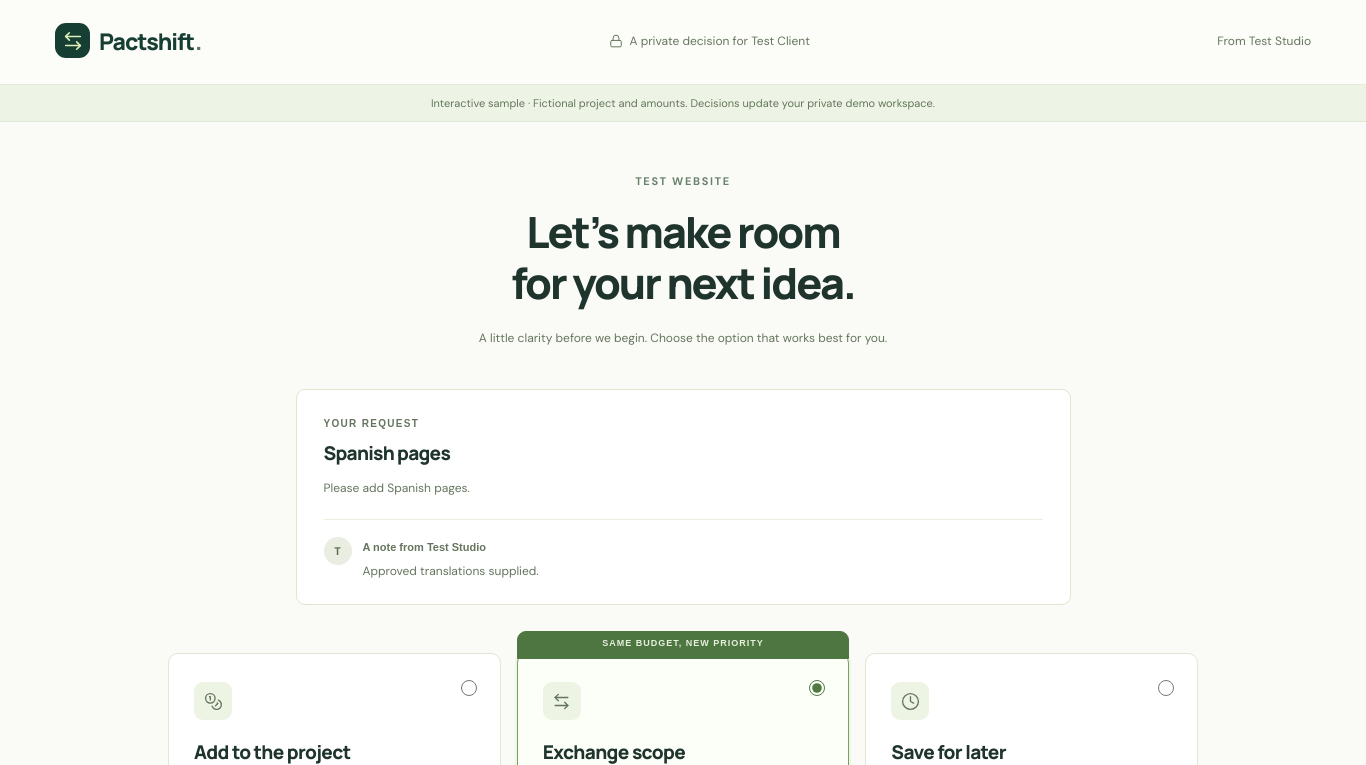
Test: real frontend workflow contracts › shows before and after totals, requires review, and renders a stable client receipt
Expected: the heading "Let’s make room" is shown, [511,202,855,312]
Click the radio button labelled "Add to the project": x=469, y=688 [461,680,477,696]
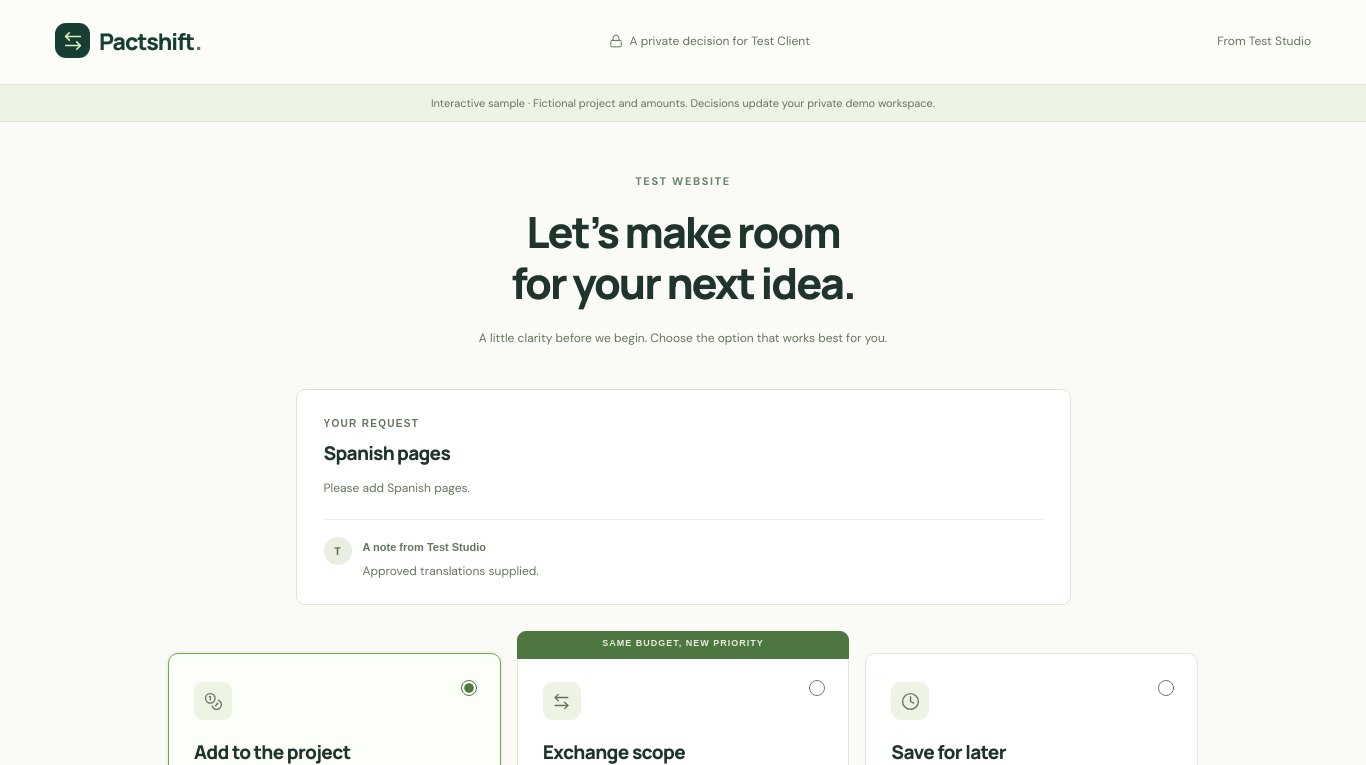
Click the radio button labelled "Exchange scope": x=817, y=688 [809,680,825,696]
(page scrolled)
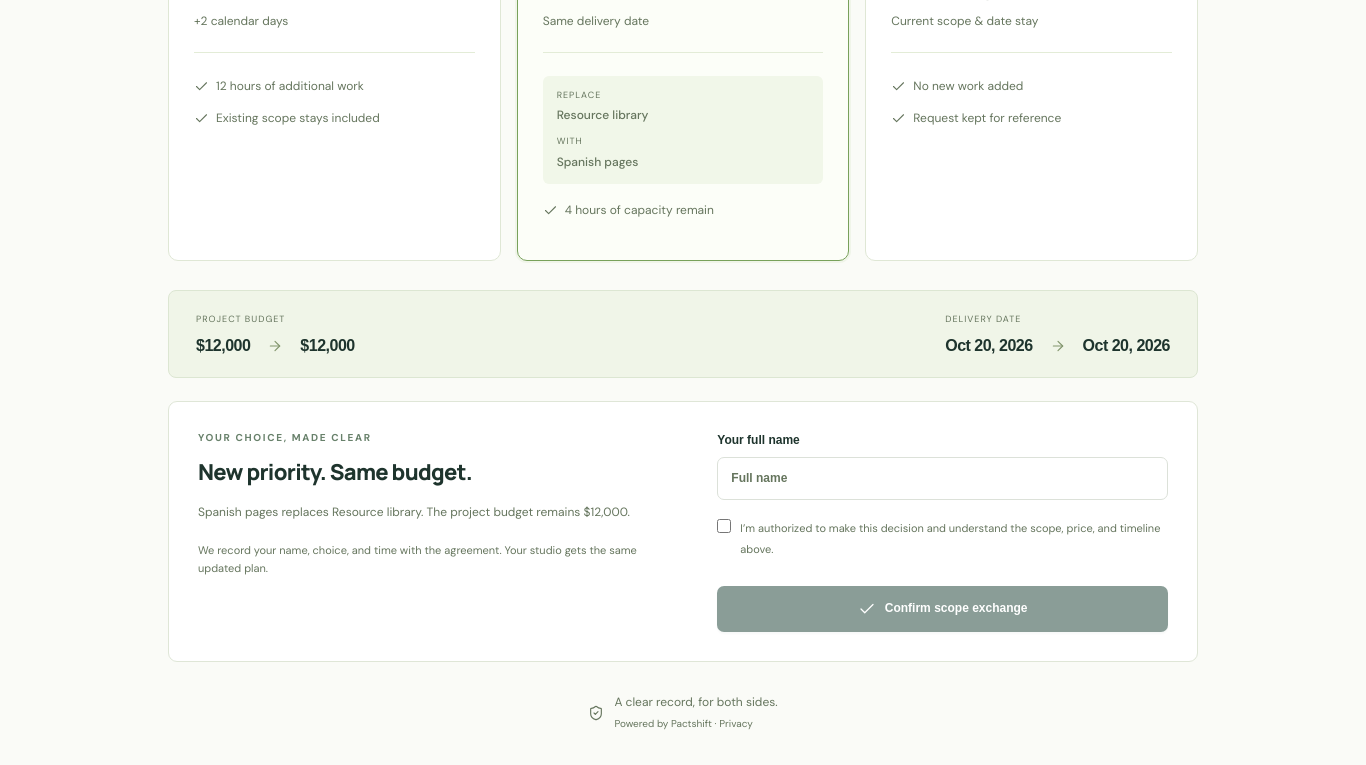
In the field labelled "Your full name": x=943, y=479 [717,457,1168,500], type "Test Client"
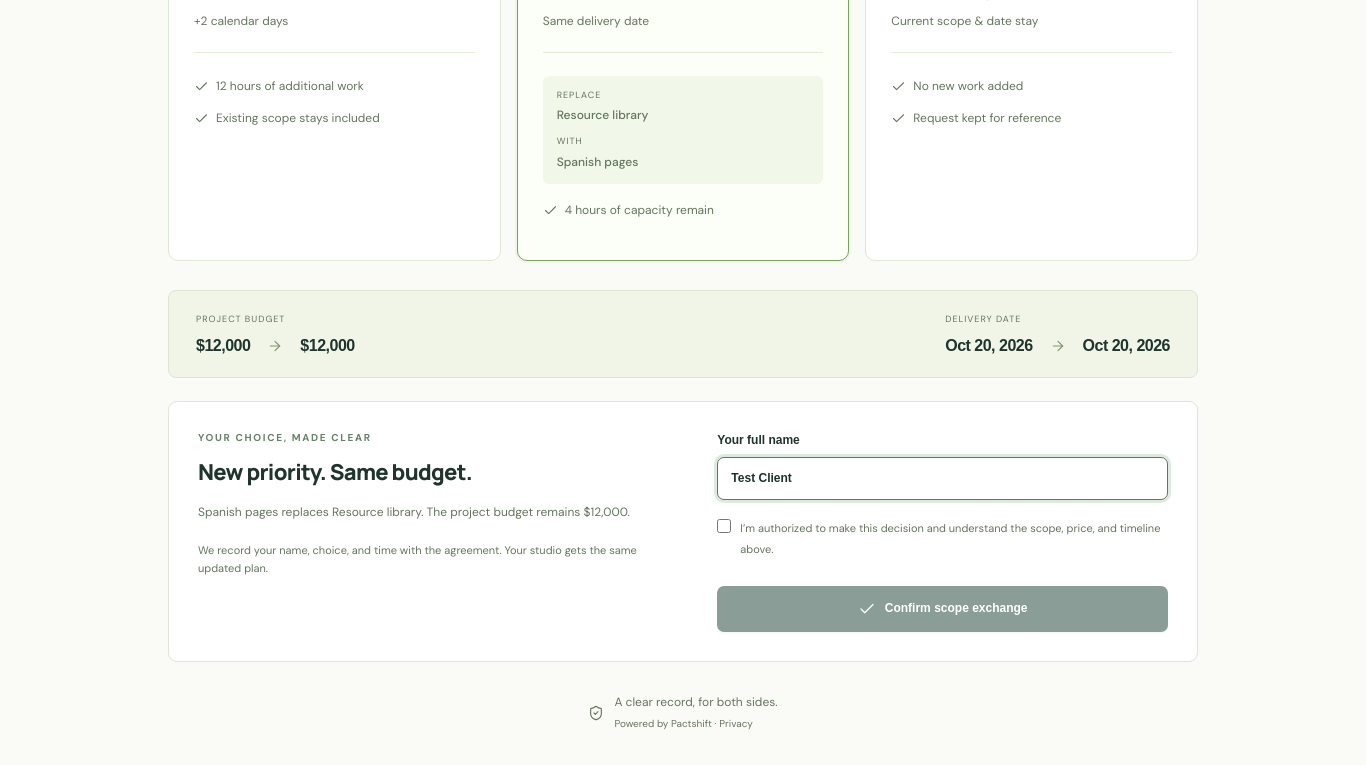
Click the checkbox: x=724, y=526 [717,519,731,533]
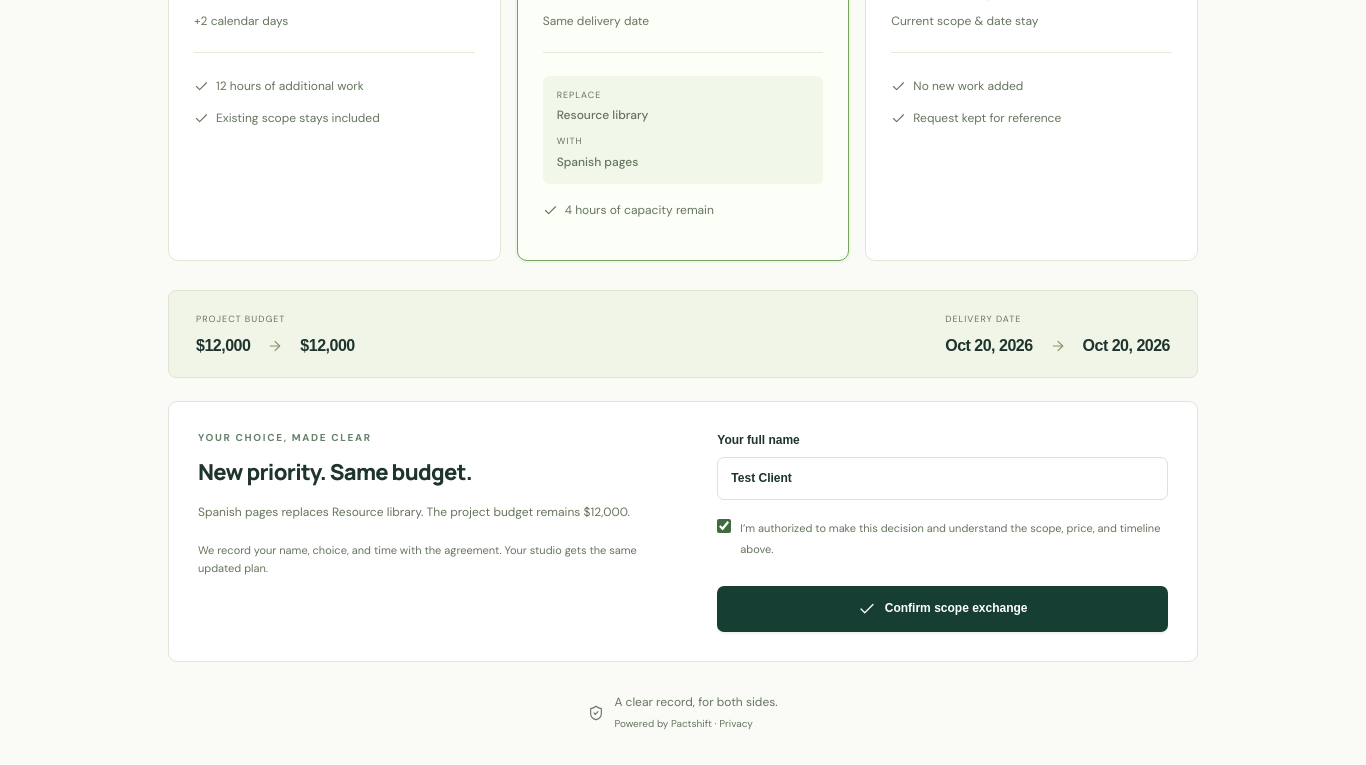
Click the button "Confirm scope exchange": x=943, y=609 [717,586,1168,632]
(page scrolled)
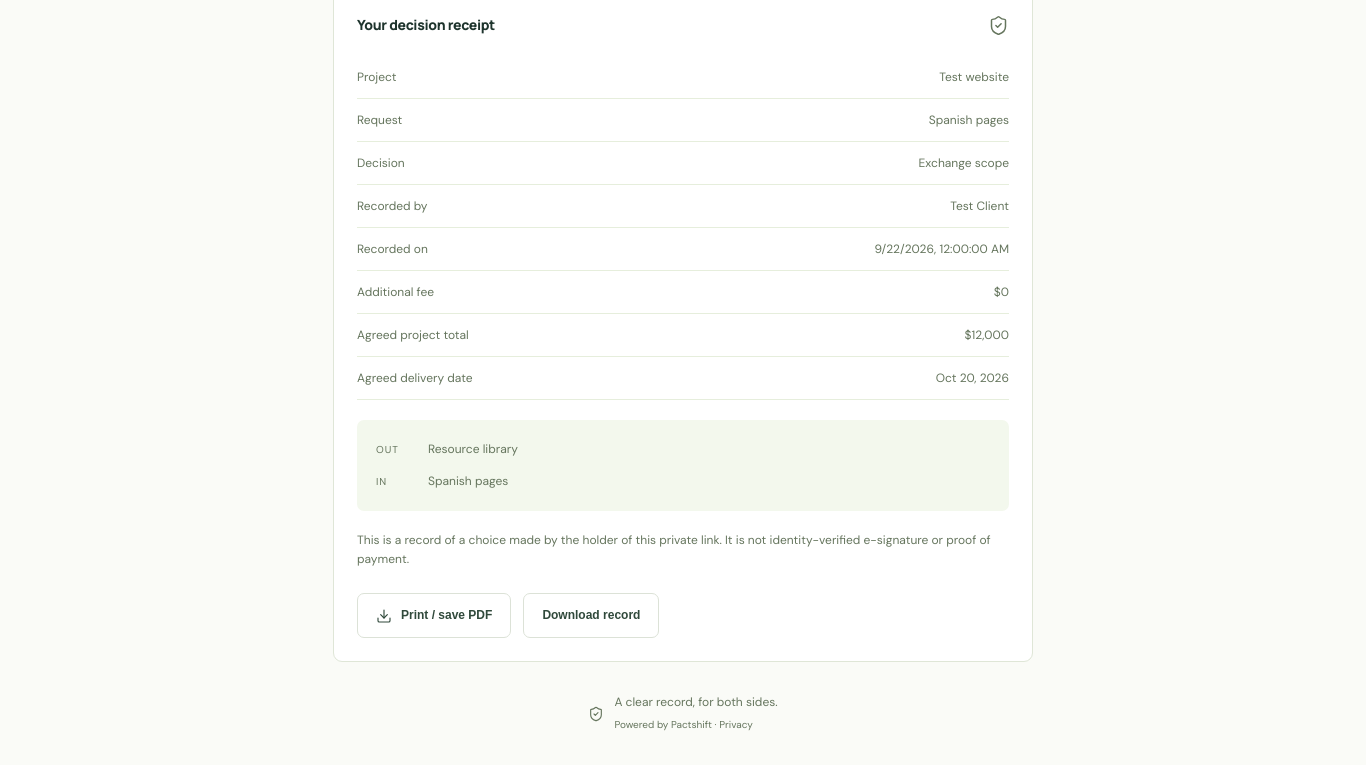
Expected: the text "$12,000" is shown, [965,327,1009,343]
Expected: the heading "Your decision receipt" is shown, [357,15,495,34]
Expected: the text "Agreed project total" is shown, [357,327,469,343]
